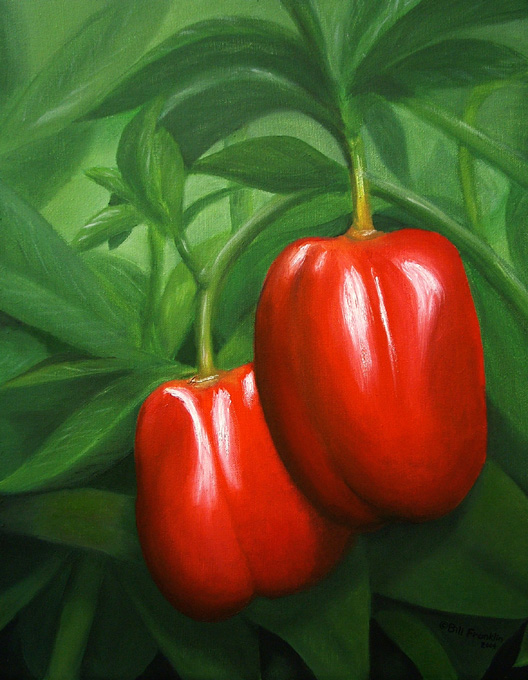capsicum: (253, 141, 488, 530), (129, 248, 355, 620)
